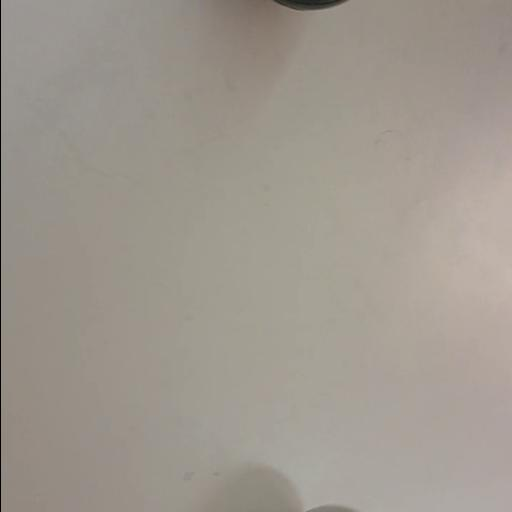alive: (304, 502, 367, 512)
dead: (272, 0, 346, 12)
